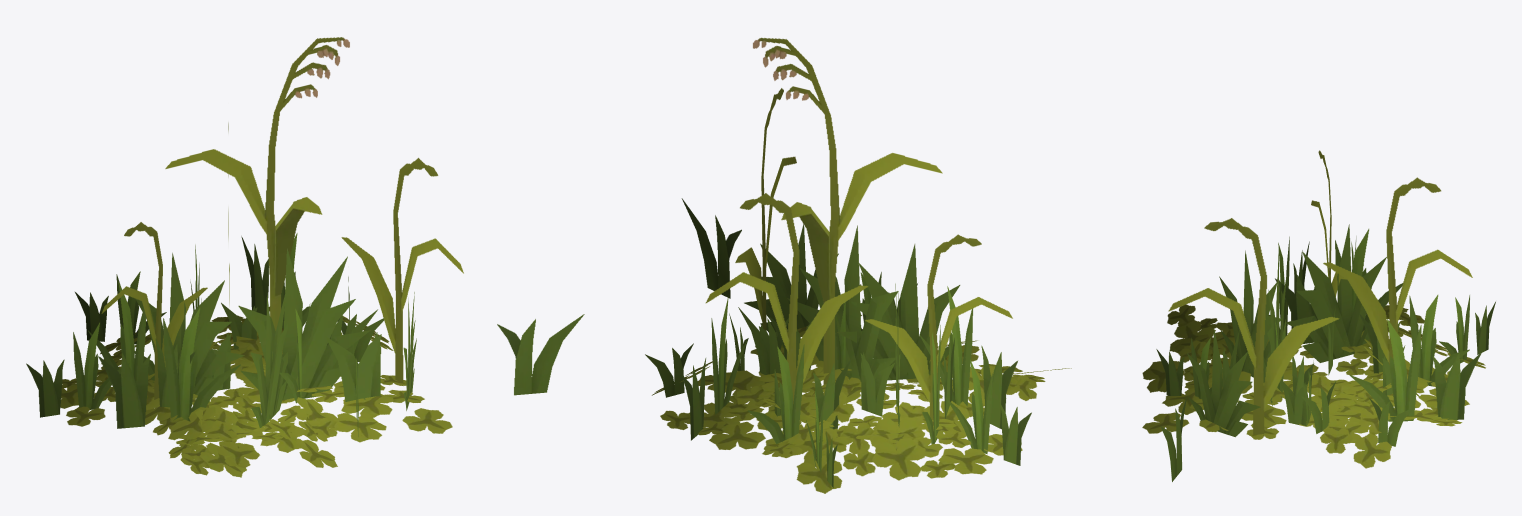
File: meadow_SM_Env_Ground_Cover_03.gltf
3 renders of one model, left to right at view 1: azimuth 30°, elevation 25°; view 2: azimuth 150°, elevation 25°; view 3: azimuth 270°, elevation 25°, orthographic. The views are drawn at different scales.
Visible parts, largest first — view 1: SM_Env_Ground_Cover_03_LOD0; view 2: SM_Env_Ground_Cover_03_LOD0; view 3: SM_Env_Ground_Cover_03_LOD0.
Part boxes in pixels (<box>): SM_Env_Ground_Cover_03_LOD0: <box>26,37,584,477</box>; SM_Env_Ground_Cover_03_LOD0: <box>645,37,1071,493</box>; SM_Env_Ground_Cover_03_LOD0: <box>1142,150,1495,481</box>.
Size of what is drawn, in the model's own units: 2.08 by 1.6 by 1.61.
Materials: 1 (1 with a texture image).
